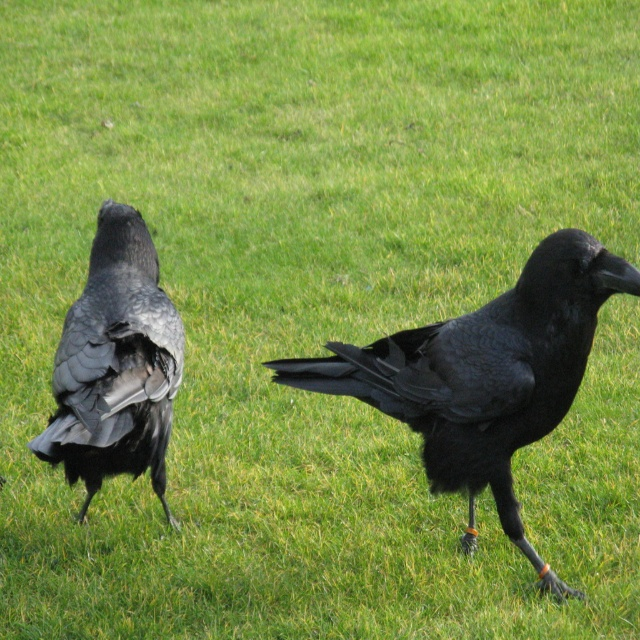Raven: (261, 227, 639, 604), (26, 198, 185, 537)
